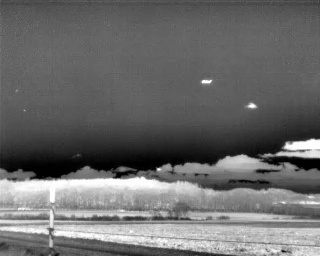DRONE: (198, 75, 215, 88)
